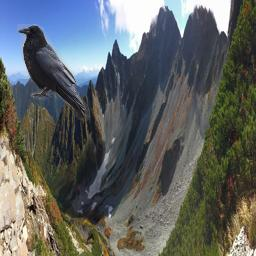Crow: (17, 24, 91, 121)
